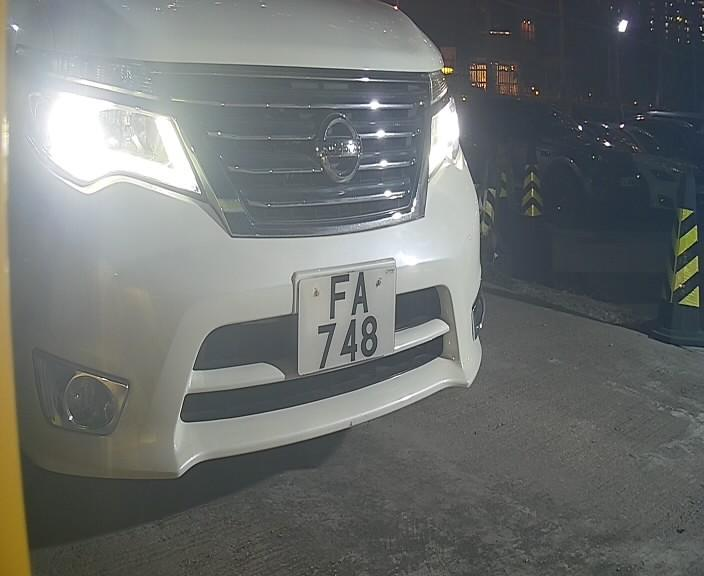privatecar: (16, 8, 494, 505)
